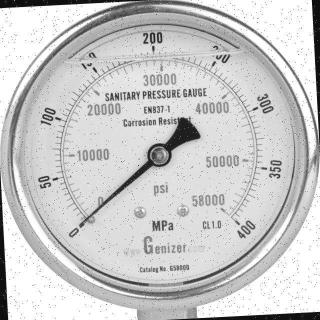gauge: (0, 0, 320, 313), (224, 206, 256, 244), (70, 204, 94, 244), (147, 142, 173, 167), (75, 214, 91, 230)
